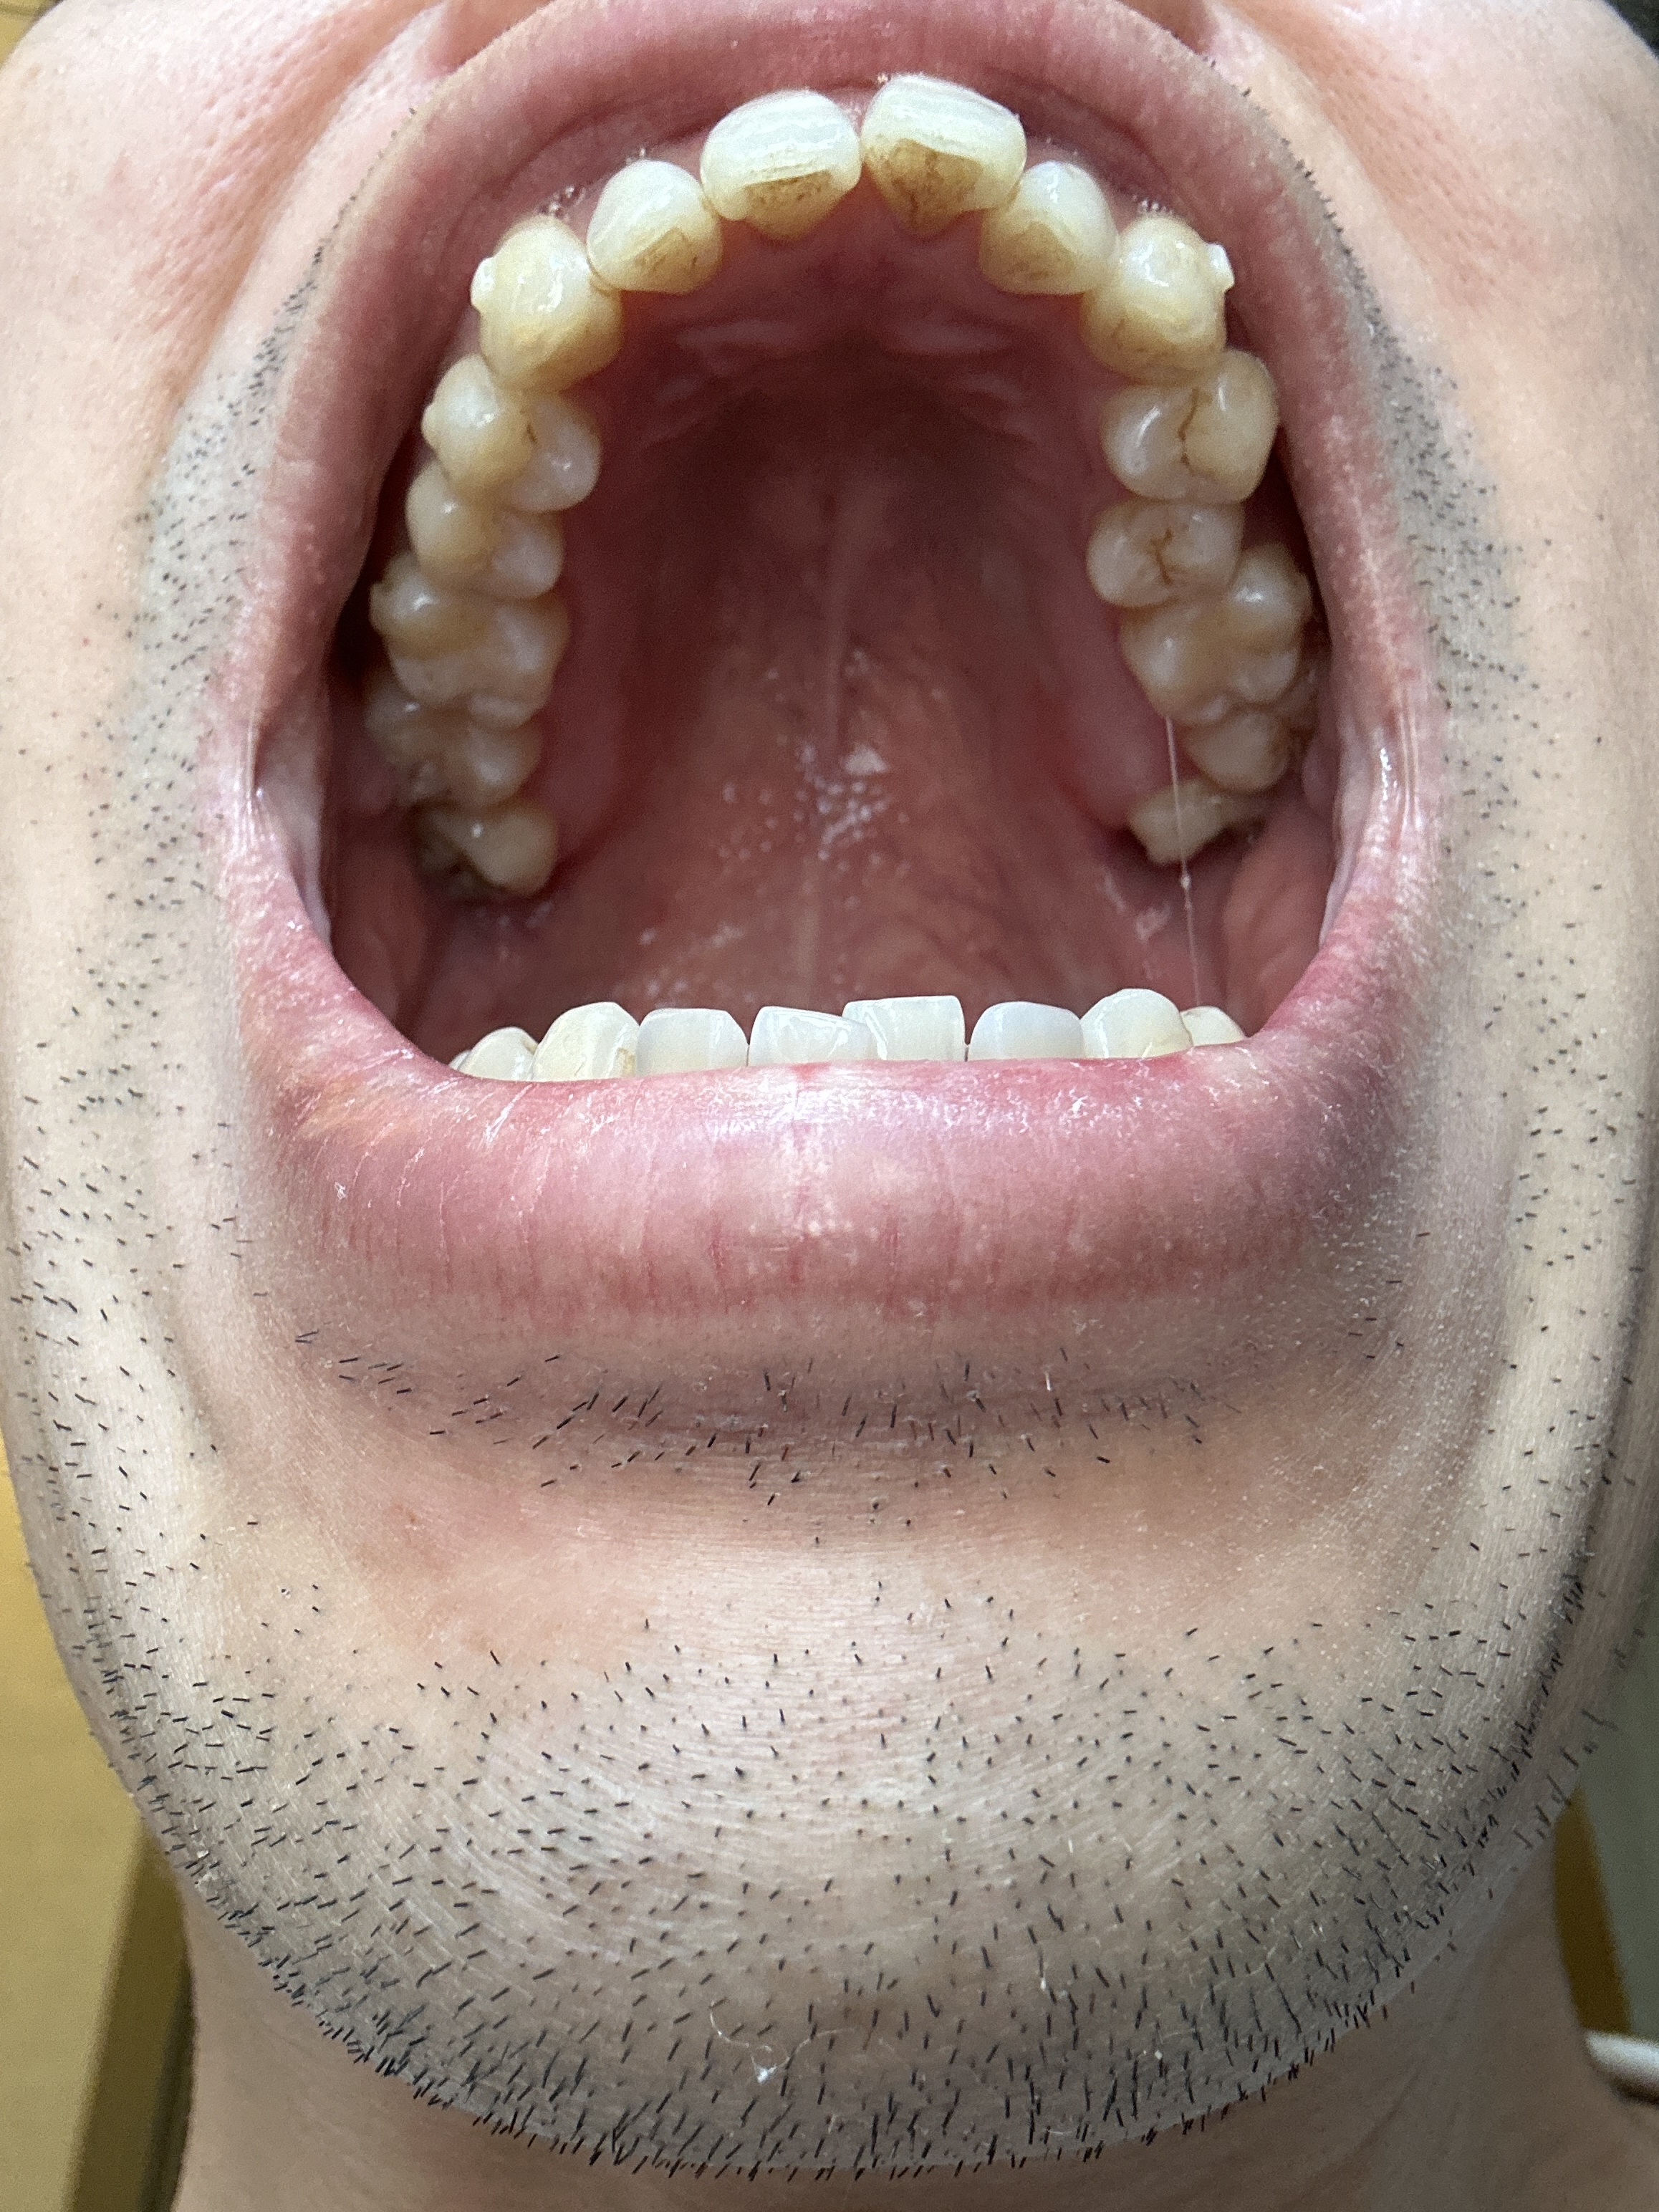teeth: (369, 566, 566, 740), (1141, 547, 1312, 732), (418, 359, 608, 523), (1105, 355, 1291, 507), (873, 75, 1033, 233), (465, 225, 619, 387), (713, 92, 868, 251), (1084, 219, 1227, 380), (401, 470, 563, 599), (1082, 500, 1243, 618), (594, 165, 718, 300), (992, 167, 1112, 294), (392, 704, 498, 796), (537, 1000, 629, 1083), (861, 993, 958, 1066), (1098, 996, 1187, 1066), (645, 1012, 739, 1073), (978, 1010, 1082, 1057), (763, 1017, 864, 1064)
